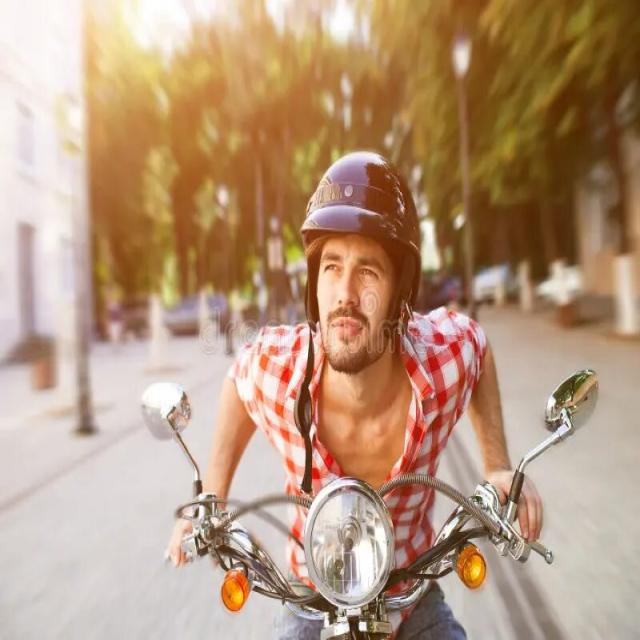illegal_helmet: (290, 145, 426, 499)
